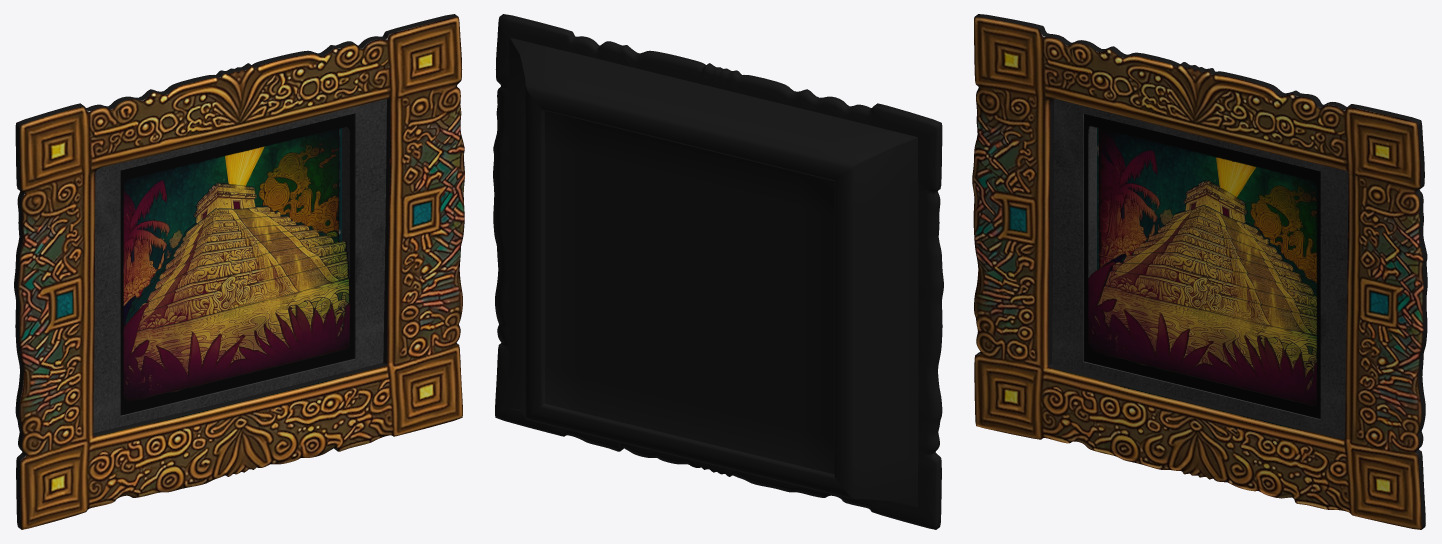
File: innovarteca-29.glb
The picture shows the model from 3 angles, left to right: view 1: azimuth 30°, elevation 25°; view 2: azimuth 150°, elevation 25°; view 3: azimuth 330°, elevation 25°; orthographic projection.
Parts seen in each view (by area): view 1: Marco5, Paper5, capa0, capa11, capa12, capa10, capa9, capa7, capa8, capa6, capa1, capa5 (+3 smaller); view 2: Marco5; view 3: Marco5, Paper5, capa0, capa11, capa12, capa10, capa9, capa7, capa8, capa6, capa1, capa5 (+3 smaller).
Boxes of the visible parts, x1,y1,x2,y2 form: Marco5: [14, 14, 464, 529]; Paper5: [93, 99, 386, 433]; capa0: [123, 128, 341, 376]; capa11: [123, 302, 349, 402]; capa12: [120, 113, 354, 415]; capa10: [131, 277, 349, 375]; capa9: [137, 260, 349, 330]; capa7: [146, 240, 346, 301]; capa8: [139, 251, 347, 312]; capa6: [154, 235, 334, 289]; capa1: [193, 182, 256, 223]; capa5: [159, 229, 319, 279]; Marco5: [493, 14, 943, 529]; Marco5: [972, 14, 1427, 529]; Paper5: [1052, 99, 1348, 436]; capa0: [1097, 127, 1316, 390]; capa11: [1088, 262, 1316, 406]; capa12: [1084, 114, 1320, 418]; capa10: [1097, 285, 1316, 390]; capa9: [1105, 270, 1316, 334]; capa7: [1122, 252, 1316, 307]; capa8: [1112, 262, 1316, 316]; capa6: [1133, 241, 1314, 294]; capa1: [1183, 180, 1246, 223]; capa5: [1139, 233, 1302, 282].
Size of the model in its own units: 2.85 by 2.49 by 0.3677.
Materials: 15 (15 with a texture image).
